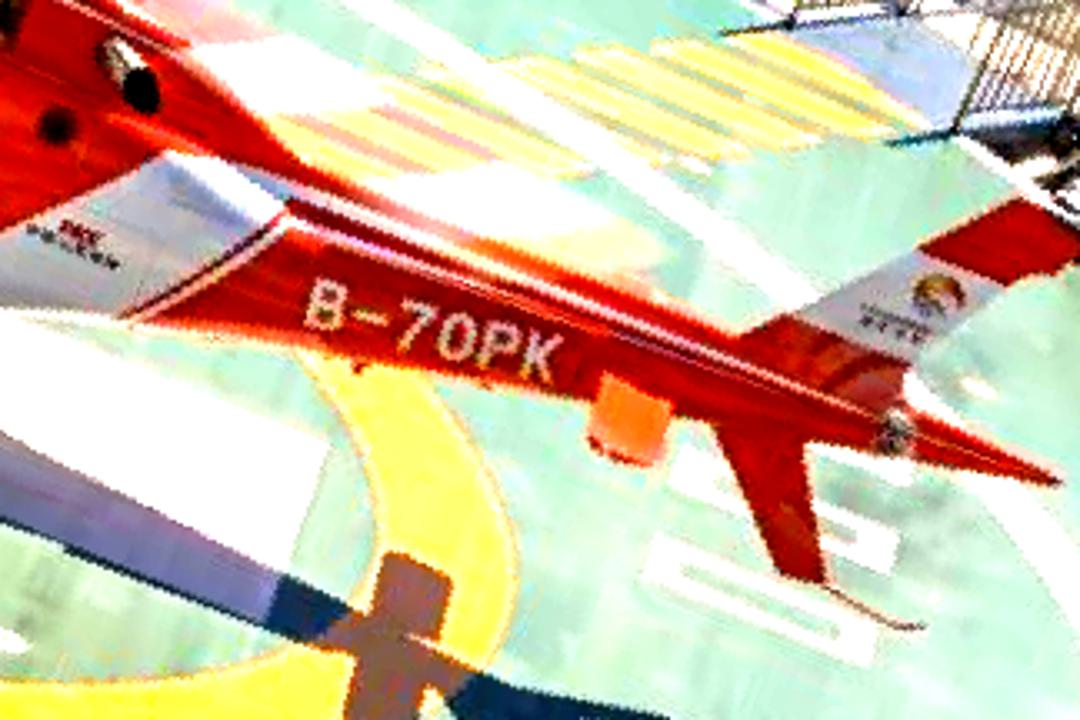Apron: (1, 84, 527, 714)
